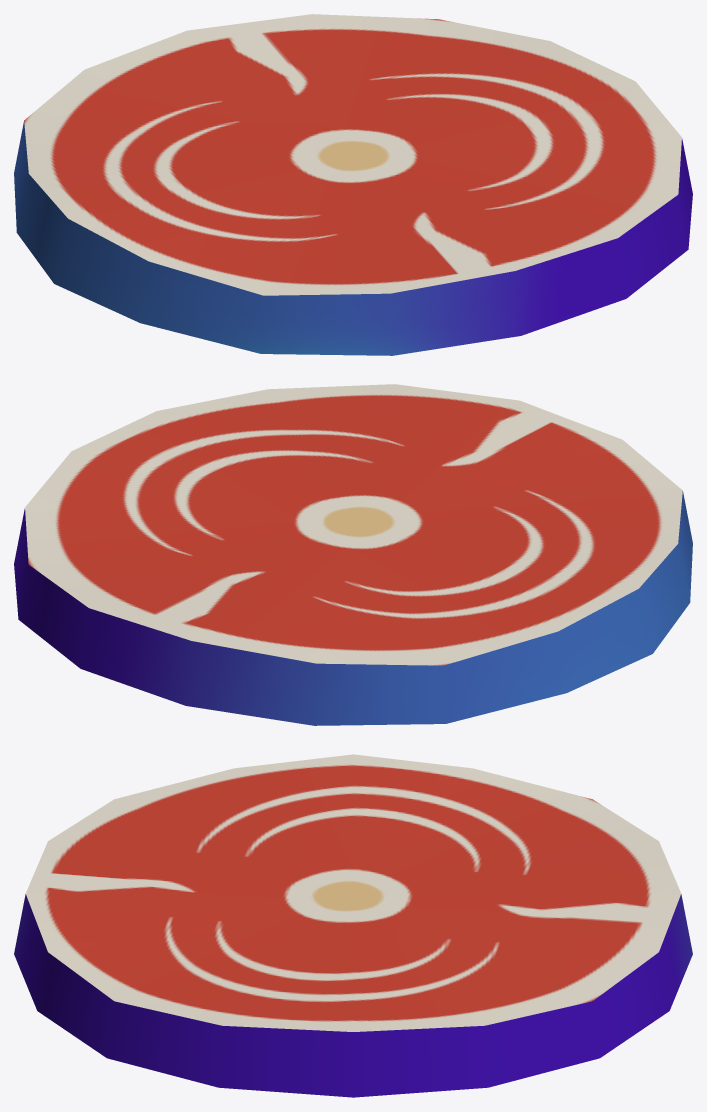
Rendered from Fish_01_Ready_01.fbx.
3 views of the same model, one above another, from view 1: azimuth 30°, elevation 25°; view 2: azimuth 150°, elevation 25°; view 3: azimuth 270°, elevation 25° (orthographic).
Visible parts, largest first — view 1: Fish_01_Ready_01; view 2: Fish_01_Ready_01; view 3: Fish_01_Ready_01.
Boxes of the visible parts, x1,y1,x2,y2 form: Fish_01_Ready_01: (14,14,692,355); Fish_01_Ready_01: (14,384,692,725); Fish_01_Ready_01: (14,754,692,1097).
Size of the model in its own units: 43.05 by 4.3 by 42.86.
